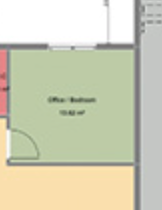door: (4, 125, 43, 162)
window: (41, 40, 105, 54)
